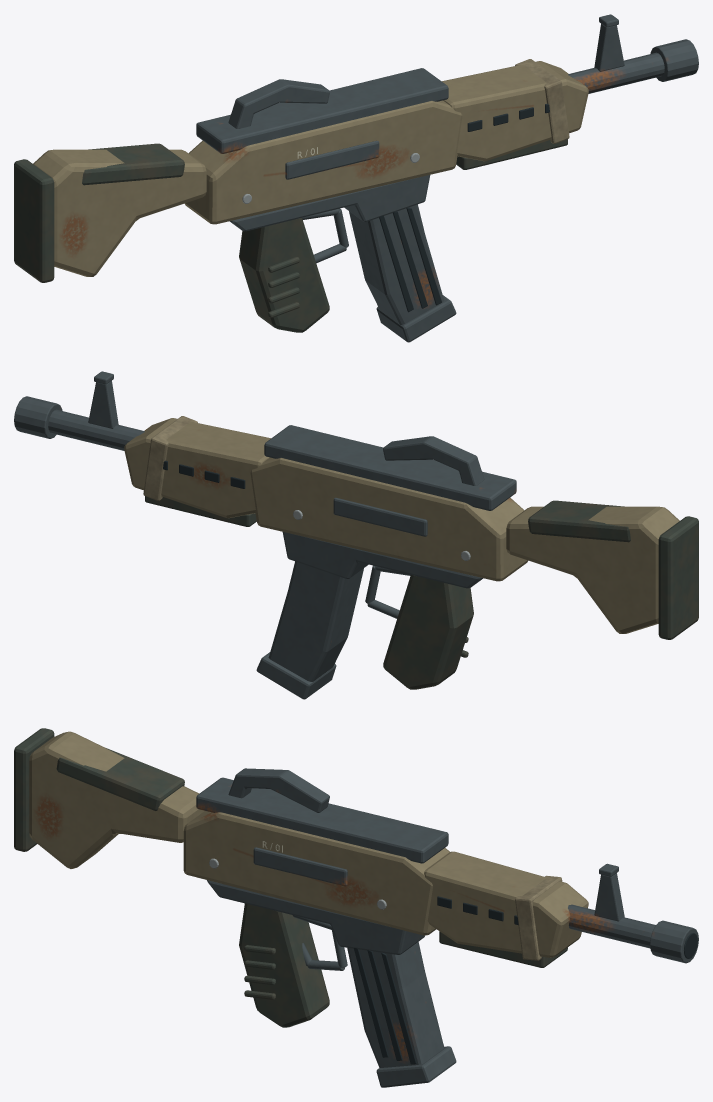
The model's file is assault.glb.
3 renders of one model, top to bottom at view 1: azimuth 30°, elevation 25°; view 2: azimuth 150°, elevation 25°; view 3: azimuth 330°, elevation 25°, orthographic.
Visible parts, largest first — view 1: AR | receiver shell, AR | broad fixed stock, AR | chunky forward handguard, AR | upper dark rail, AR | pistol grip, AR | curved magazine visual, AR | stock rubber pad, AR | lower shell, AR | stock cheek insert, AR | rear carry sight bridge, AR | solid exterior barrel, AR | side receiver inset (+8 smaller); view 2: AR | receiver shell, AR | broad fixed stock, AR | chunky forward handguard, AR | upper dark rail, AR | pistol grip, AR | curved magazine visual, AR | stock rubber pad, AR | lower shell, AR | stock cheek insert, AR | rear carry sight bridge, AR | solid exterior barrel, AR | side receiver inset.001 (+5 smaller); view 3: AR | receiver shell, AR | broad fixed stock, AR | chunky forward handguard, AR | upper dark rail, AR | pistol grip, AR | curved magazine visual, AR | lower shell, AR | stock cheek insert, AR | rear carry sight bridge, AR | stock rubber pad, AR | solid exterior barrel, AR | side receiver inset (+8 smaller).
Part boxes in pixels (left/top/right/bottom): AR | receiver shell: left=184, top=100, right=462, bottom=224; AR | broad fixed stock: left=33, top=149, right=206, bottom=276; AR | chunky forward handguard: left=442, top=61, right=588, bottom=161; AR | upper dark rail: left=196, top=68, right=448, bottom=153; AR | pistol grip: left=239, top=218, right=329, bottom=332; AR | curved magazine visual: left=349, top=204, right=444, bottom=324; AR | stock rubber pad: left=14, top=159, right=54, bottom=282; AR | lower shell: left=230, top=175, right=430, bottom=231; AR | stock cheek insert: left=82, top=143, right=184, bottom=185; AR | rear carry sight bridge: left=228, top=79, right=329, bottom=128; AR | solid exterior barrel: left=568, top=52, right=664, bottom=93; AR | side receiver inset: left=285, top=140, right=379, bottom=179; AR | receiver shell: left=250, top=457, right=528, bottom=581; AR | broad fixed stock: left=506, top=506, right=679, bottom=633; AR | chunky forward handguard: left=124, top=418, right=270, bottom=518; AR | upper dark rail: left=264, top=425, right=516, bottom=510; AR | pistol grip: left=383, top=575, right=473, bottom=689; AR | curved magazine visual: left=268, top=561, right=363, bottom=681; AR | stock rubber pad: left=658, top=516, right=698, bottom=639; AR | lower shell: left=282, top=532, right=482, bottom=588; AR | stock cheek insert: left=528, top=500, right=630, bottom=542; AR | rear carry sight bridge: left=383, top=436, right=484, bottom=485; AR | solid exterior barrel: left=48, top=409, right=144, bottom=450; AR | side receiver inset.001: left=333, top=497, right=427, bottom=536; AR | receiver shell: left=183, top=811, right=449, bottom=935; AR | broad fixed stock: left=29, top=731, right=204, bottom=868; AR | chunky forward handguard: left=424, top=851, right=588, bottom=957; AR | upper dark rail: left=196, top=777, right=448, bottom=863; AR | pistol grip: left=239, top=903, right=329, bottom=1027; AR | curved magazine visual: left=347, top=942, right=444, bottom=1067; AR | lower shell: left=207, top=880, right=424, bottom=954; AR | stock cheek insert: left=56, top=748, right=184, bottom=810; AR | rear carry sight bridge: left=228, top=768, right=329, bottom=812; AR | stock rubber pad: left=14, top=728, right=54, bottom=851; AR | solid exterior barrel: left=568, top=904, right=655, bottom=948; AR | side receiver inset: left=253, top=847, right=347, bottom=886.
Size of the model in its own units: 1.14 by 0.4542 by 0.1034.
Materials: 4 (2 with a texture image).
